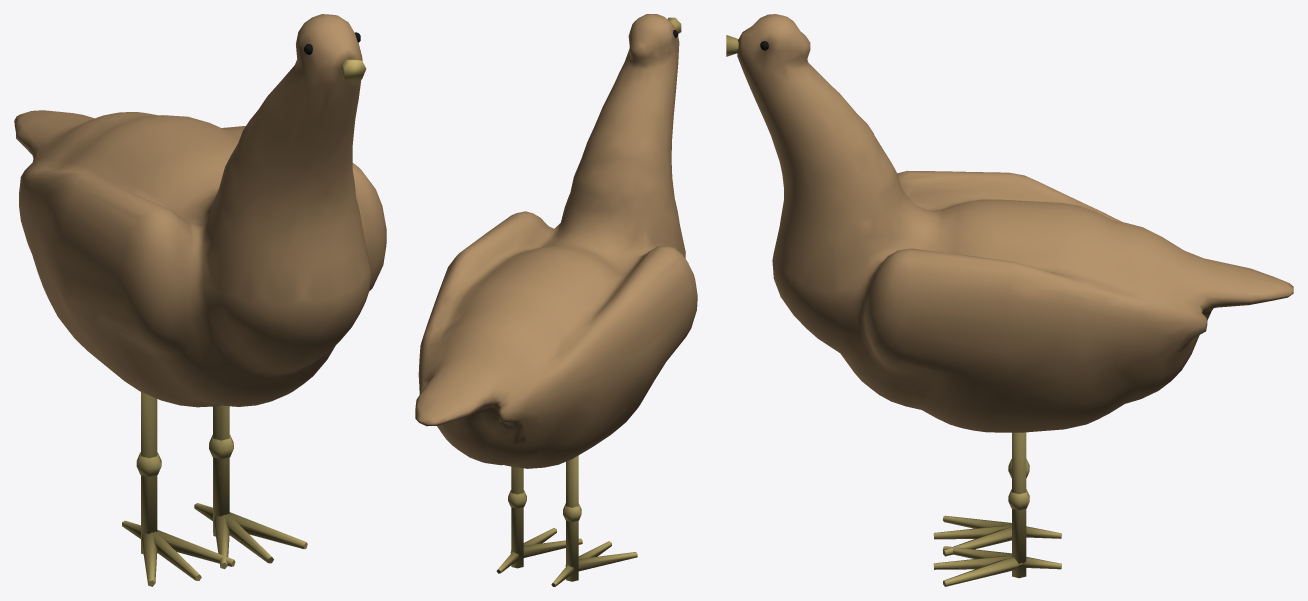
File: huhn.glb
3 views of the same model, side by side, from view 1: azimuth 30°, elevation 25°; view 2: azimuth 150°, elevation 25°; view 3: azimuth 270°, elevation 25° (orthographic). The views are drawn at different scales.
Visible parts, largest first — view 1: lack; view 2: lack; view 3: lack.
Boxes of the visible parts, x1,y1,x2,y2 form: lack: (14,14,386,586); lack: (415,14,697,586); lack: (726,14,1293,586).
Size of the model in its own units: 0.1873 by 0.4194 by 0.397.
